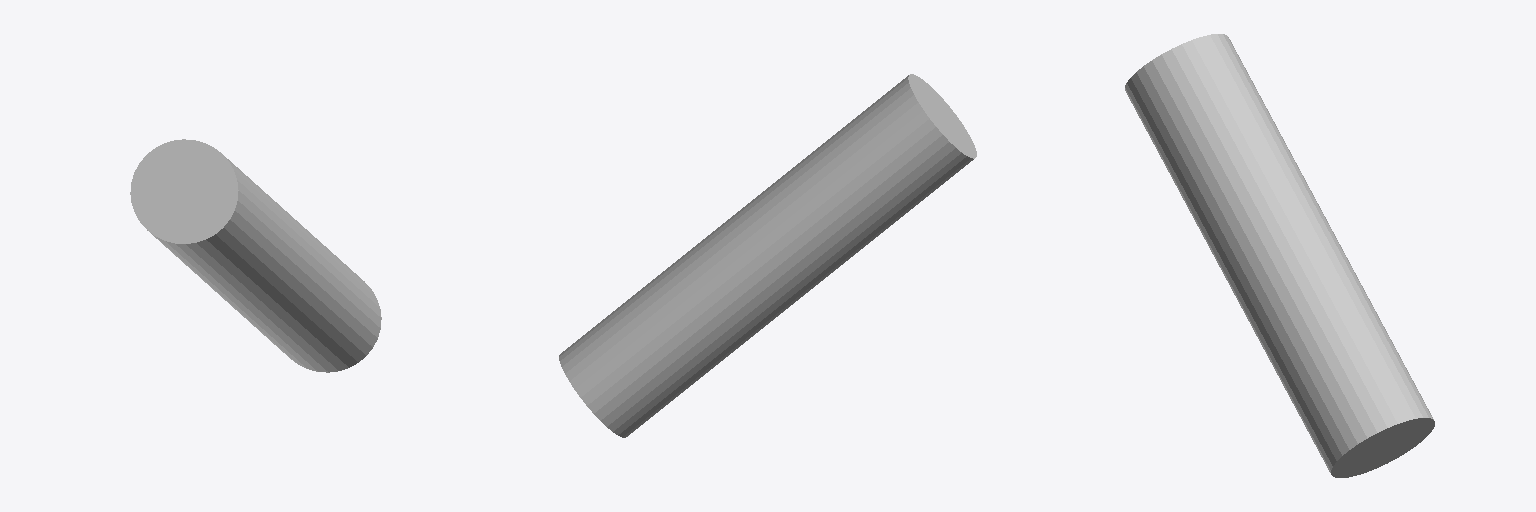
Rendered from mesh_upperleg_r1.obj.
3 views of the same model, side by side, from view 1: azimuth 30°, elevation 25°; view 2: azimuth 150°, elevation 25°; view 3: azimuth 270°, elevation 25° (orthographic).
Visible parts, largest first — view 1: Cylinder; view 2: Cylinder; view 3: Cylinder.
Part boxes in pixels (x1,y1,x2,y2): Cylinder: (130, 139, 381, 372); Cylinder: (559, 74, 976, 437); Cylinder: (1125, 34, 1434, 477).
Bounding box in the file's own units: 0.6931 × 0.7015 × 0.5817.